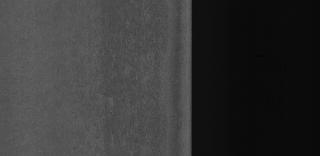silk spot: (102, 36, 166, 100)
